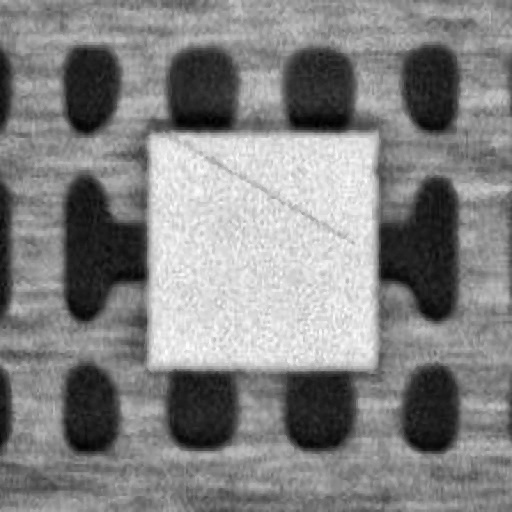DIE_CRACK: (244, 88, 512, 159)
